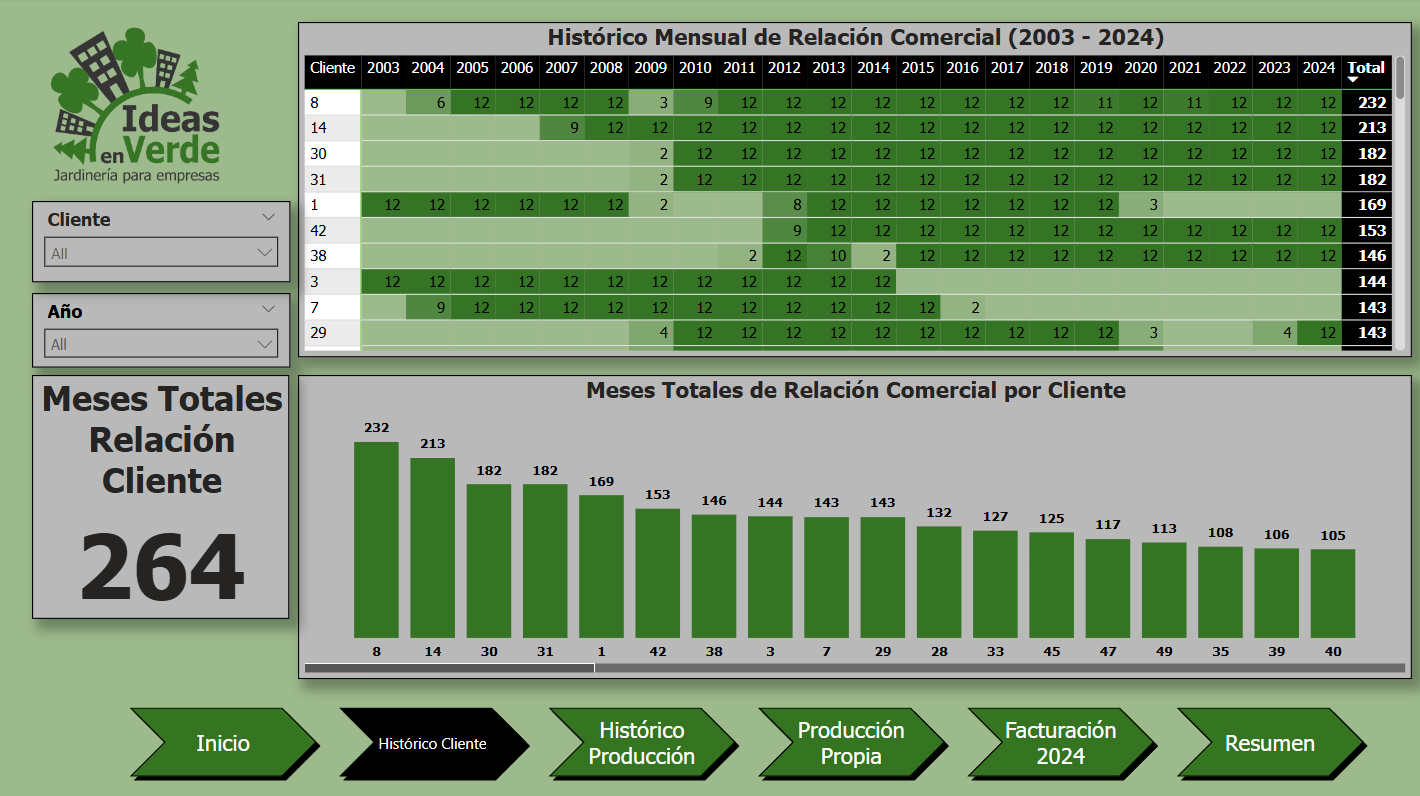

The dashboard page shown, as its layout file describes it:
{"tool":"powerbi","page":{"name":"Histórico Cliente","canvas":[1280,720],"ordinal":1},"visuals":[{"type":"slicer","fields":{"Values":["tabla_larga_cliente_2024_filtrada.Date.Variation.Date Hierarchy.Year"]},"box":[31.1,265.5,232.5,67.1],"z":0},{"type":"pageNavigator","box":[114.1,633.3,1122.2,72.7],"z":1000},{"type":"image","box":[31.1,22.4,184.8,149.8],"z":2000},{"type":"pivotTable","title":"Histórico Mensual de Relación Comercial (2003 - 2024)","fields":{"Columns":["tabla_larga_cliente_2024_filtrada.Año"],"Values":["tabla_larga_cliente_2024_filtrada.Cantidad_Meses_Efectivos"],"Rows":["tabla_larga_cliente_2024_filtrada.Cliente_Num"]},"box":[270.4,22.4,999.9,300.5],"z":3000},{"type":"slicer","fields":{"Values":["tabla_larga_cliente_2024_filtrada.Cliente_Num"]},"box":[31.1,182.9,232.5,72.9],"z":4000},{"type":"columnChart","title":"Meses Totales de Relación Comercial por Cliente","fields":{"Category":["tabla_larga_cliente_2024_filtrada.Cliente_Num"],"Y":["tabla_larga_cliente_2024_filtrada.Cantidad_Meses_Efectivos"]},"box":[270.4,339.5,999.9,273.3],"z":5000},{"type":"card","title":"Meses Totales Relación Cliente","fields":{"Values":["tabla_larga_cliente_2024_filtrada.Cantidad_Meses_Efectivos"]},"box":[31.1,339.5,231.5,218.8],"z":6000}]}

Visuals, with their boxes in screenshot pixels (x1, y1, x2, y2), scaled from the page's 1280x720 canvas onto the 1420x796 screenshot:
slicer - tabla_larga_cliente_2024_filtrada.Date.Variation.Date Hierarchy.Year: (x1=35, y1=294, x2=292, y2=368)
pageNavigator: (x1=127, y1=700, x2=1372, y2=781)
image: (x1=35, y1=25, x2=240, y2=190)
"Histórico Mensual de Relación Comercial (2003 - 2024)" pivotTable: (x1=300, y1=25, x2=1409, y2=357)
slicer - tabla_larga_cliente_2024_filtrada.Cliente_Num: (x1=35, y1=202, x2=292, y2=283)
"Meses Totales de Relación Comercial por Cliente" columnChart: (x1=300, y1=375, x2=1409, y2=677)
"Meses Totales Relación Cliente" card: (x1=35, y1=375, x2=291, y2=617)
